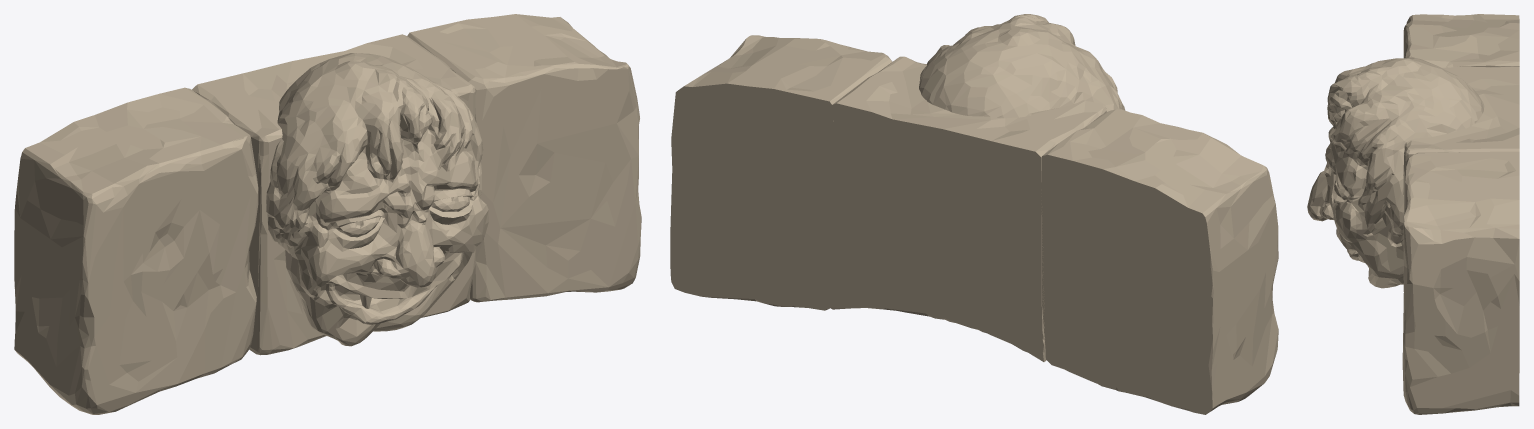
File: Gargoyle_03.glb
3 renders of one model, left to right at view 1: azimuth 30°, elevation 25°; view 2: azimuth 150°, elevation 25°; view 3: azimuth 270°, elevation 25°, orthographic. The views are drawn at different scales.
Parts seen in each view (by area): view 1: Gargoyle_03; view 2: Gargoyle_03; view 3: Gargoyle_03.
Boxes of the visible parts, x1,y1,x2,y2 form: Gargoyle_03: (14,14,641,414); Gargoyle_03: (670,14,1278,414); Gargoyle_03: (1307,14,1519,414).
Size of the model in its own units: 3.1 by 1.57 by 1.24.
